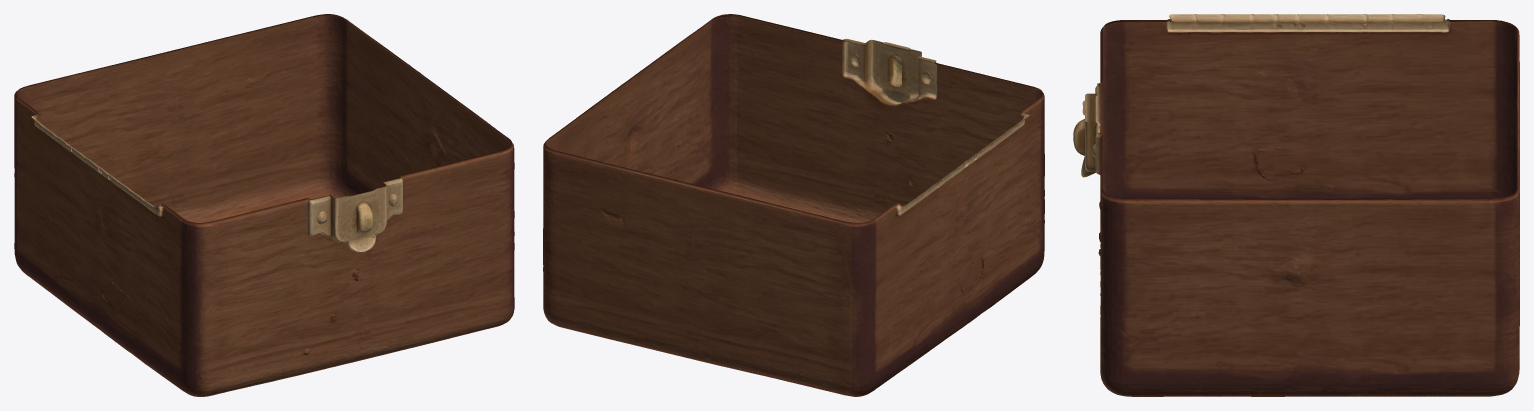
File: body.glb
3 renders of one model, left to right at view 1: azimuth 30°, elevation 25°; view 2: azimuth 150°, elevation 25°; view 3: azimuth 270°, elevation 25°, orthographic. The views are drawn at different scales.
Visible parts, largest first — view 1: source_surface_0; view 2: source_surface_0; view 3: source_surface_0.
Part boxes in pixels (box(x1,y1,x2,y2)): source_surface_0: box(14, 14, 514, 396); source_surface_0: box(543, 14, 1044, 396); source_surface_0: box(1073, 14, 1519, 396).
Bounding box in the file's own units: 0.1197 × 0.0606 × 0.1204.
Materials: 1 (1 with a texture image).
